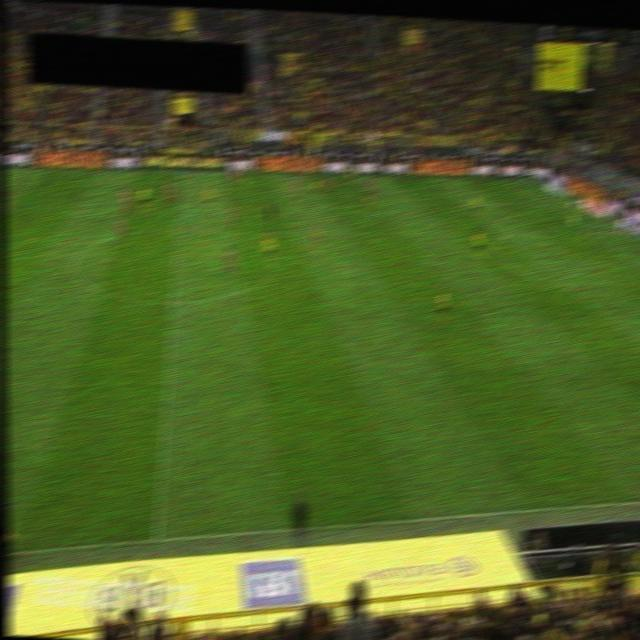bigarea_top_inner: (455, 198, 470, 210)
bigarea_top_outter: (569, 201, 585, 212)
bottom_arc_area_intersection: (561, 282, 576, 294)
corner: (520, 173, 536, 185)
halfcircle_bottom: (166, 296, 181, 308)
halfcircle_top: (170, 223, 186, 235)
midline_bottom_intersection: (149, 530, 165, 547)
midline_top_intersection: (175, 167, 190, 178)
smallarea_top_inner: (576, 226, 592, 238)
smallarea_top_outter: (616, 226, 632, 237)
top_arc_area_intersection: (495, 230, 511, 242)
